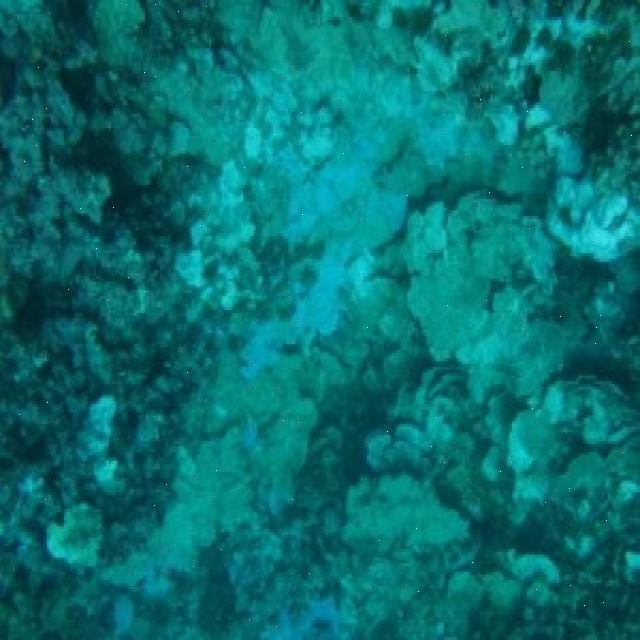Bleached: (234, 81, 391, 379), (175, 186, 259, 292), (398, 57, 478, 166), (564, 166, 640, 248), (45, 507, 110, 561), (512, 414, 550, 500), (267, 602, 349, 640), (539, 135, 594, 184), (90, 415, 126, 481)
Healthy: (2, 27, 158, 392), (510, 513, 640, 640)
